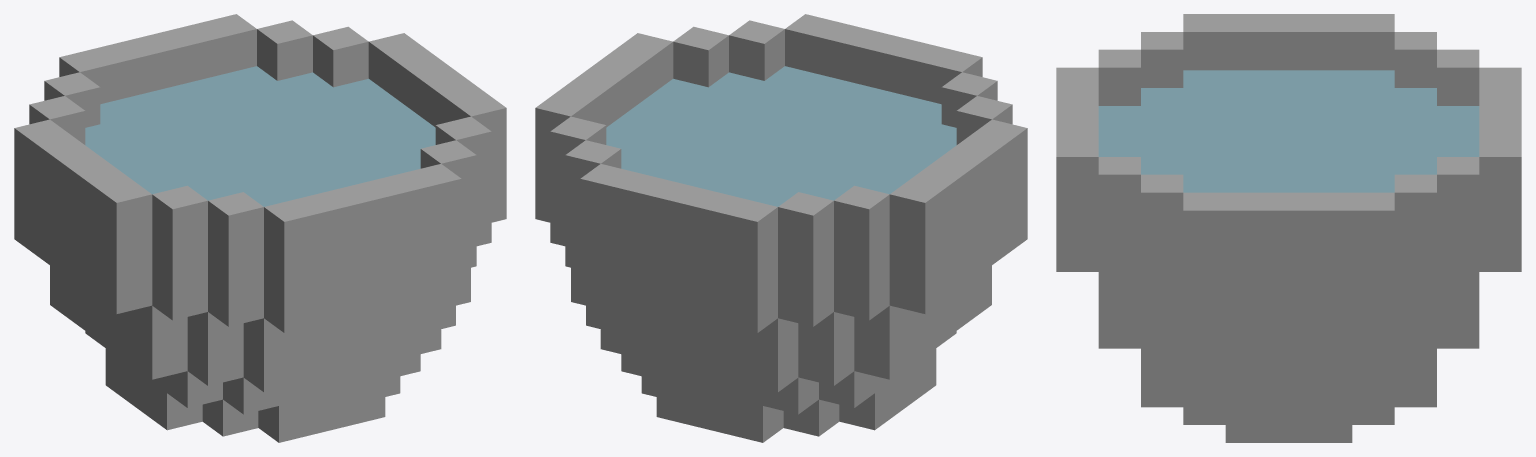
File: bucket.fbx
3 views of the same model, side by side, from view 1: azimuth 30°, elevation 25°; view 2: azimuth 150°, elevation 25°; view 3: azimuth 270°, elevation 25° (orthographic). The views are drawn at different scales.
Parts seen in each view (by area): view 1: voxel_1_bucket:Mesh; view 2: voxel_1_bucket:Mesh; view 3: voxel_1_bucket:Mesh.
Boxes of the visible parts, bbox=[...] form: voxel_1_bucket:Mesh: bbox=[14, 14, 506, 442]; voxel_1_bucket:Mesh: bbox=[535, 14, 1027, 442]; voxel_1_bucket:Mesh: bbox=[1056, 14, 1521, 442].
Bounding box in the file's own units: 1.1 × 0.7 × 1.1.
